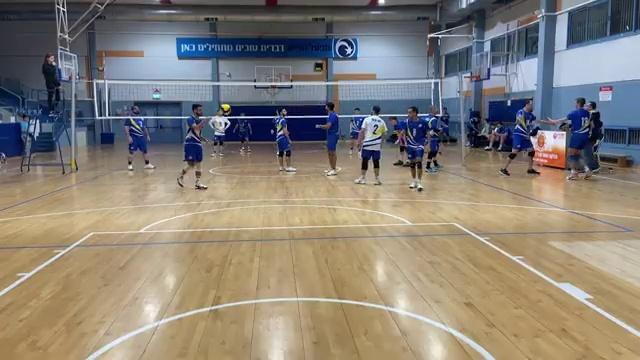ball: (219, 101, 233, 117)
